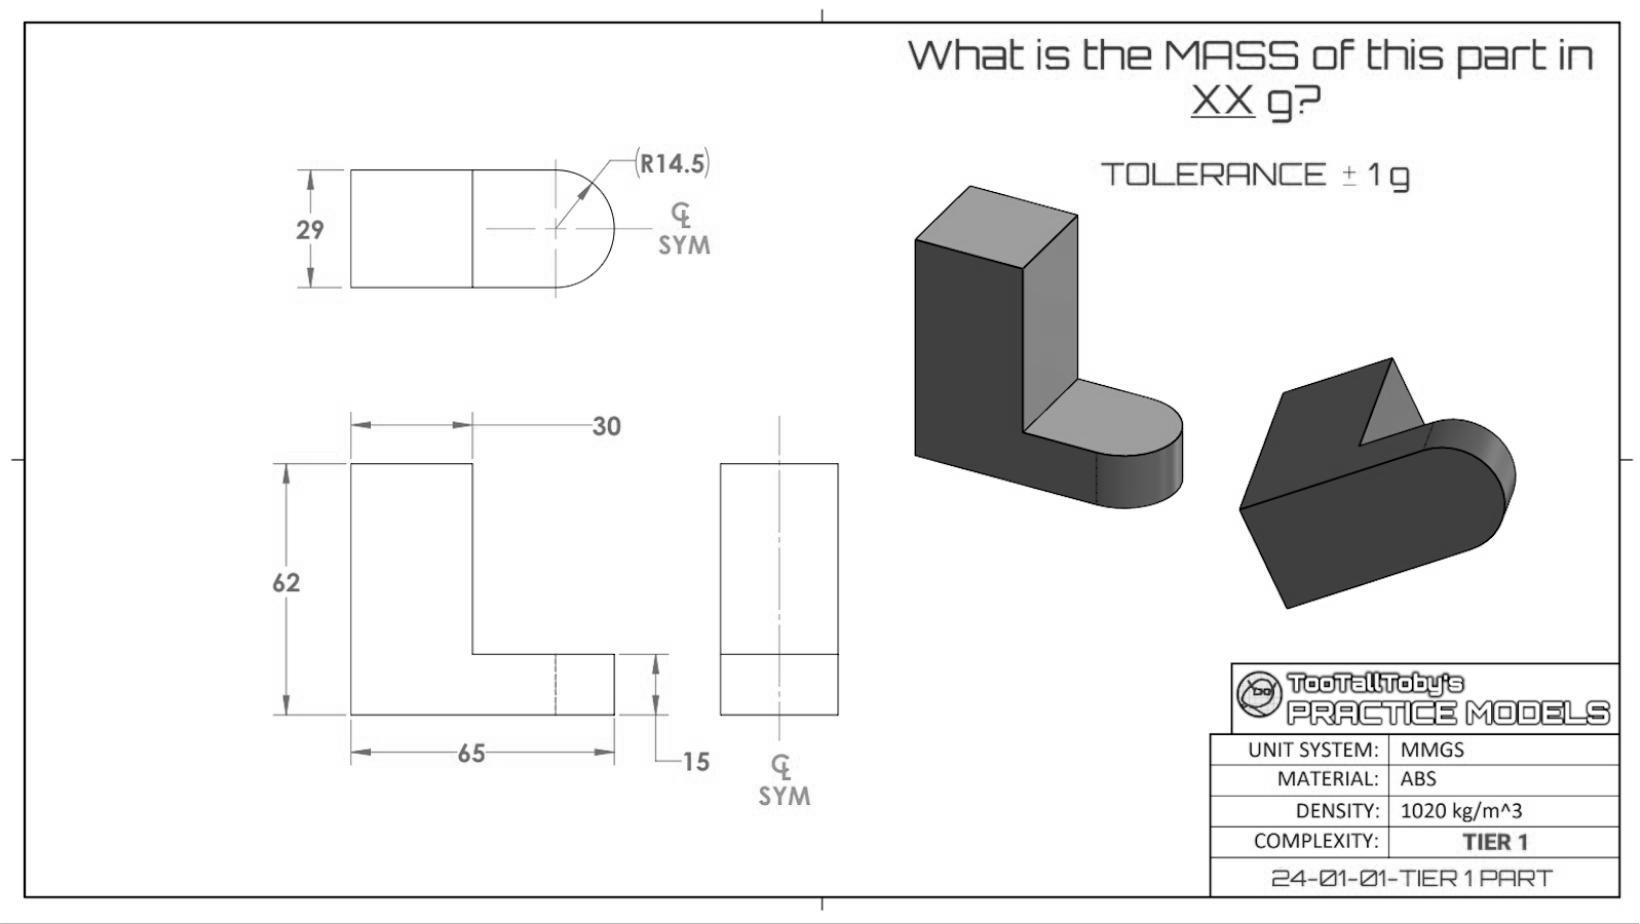-: (1339, 162, 1360, 193)
0: (605, 415, 622, 436), (1434, 801, 1449, 821), (1410, 801, 1424, 821)
1: (1366, 159, 1382, 188), (653, 153, 667, 175), (1399, 801, 1411, 821), (683, 750, 694, 770)
2: (295, 217, 311, 241), (285, 571, 301, 593), (1423, 801, 1435, 819)
3: (592, 415, 608, 436)
4: (668, 152, 684, 174)
5: (692, 152, 706, 176), (471, 740, 485, 763), (696, 749, 710, 771)
6: (457, 741, 472, 763), (273, 572, 287, 593)
9: (311, 219, 323, 240)
ABS: (1399, 768, 1440, 789)
Coma: (684, 166, 690, 177)
Density: (1294, 801, 1381, 820)
MMGS: (1400, 739, 1465, 759)
Material: (1276, 768, 1381, 791)
Radius: (640, 152, 654, 174)
SYM: (656, 230, 714, 261), (757, 783, 811, 810)
Symmetry: (769, 752, 795, 781), (671, 201, 690, 228)
UnitSystem: (1247, 739, 1381, 759)
X: (1188, 81, 1223, 116), (1224, 81, 1255, 116)
grams: (1265, 83, 1293, 127), (1388, 162, 1414, 199)
